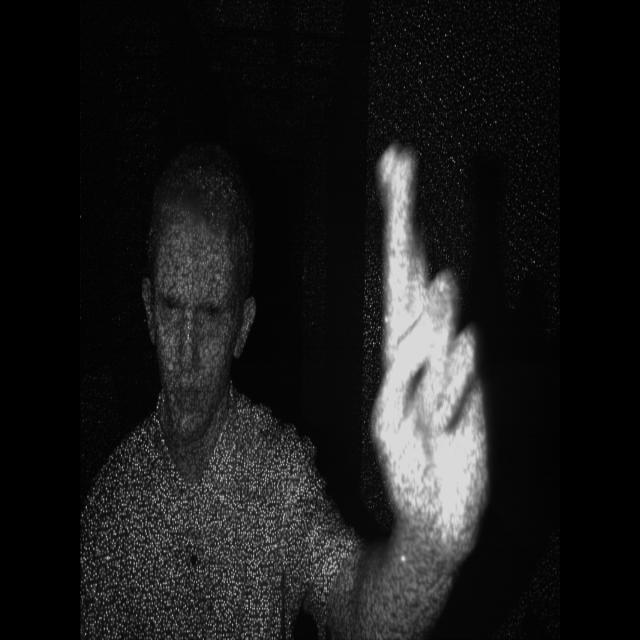R: (354, 124, 513, 562)
